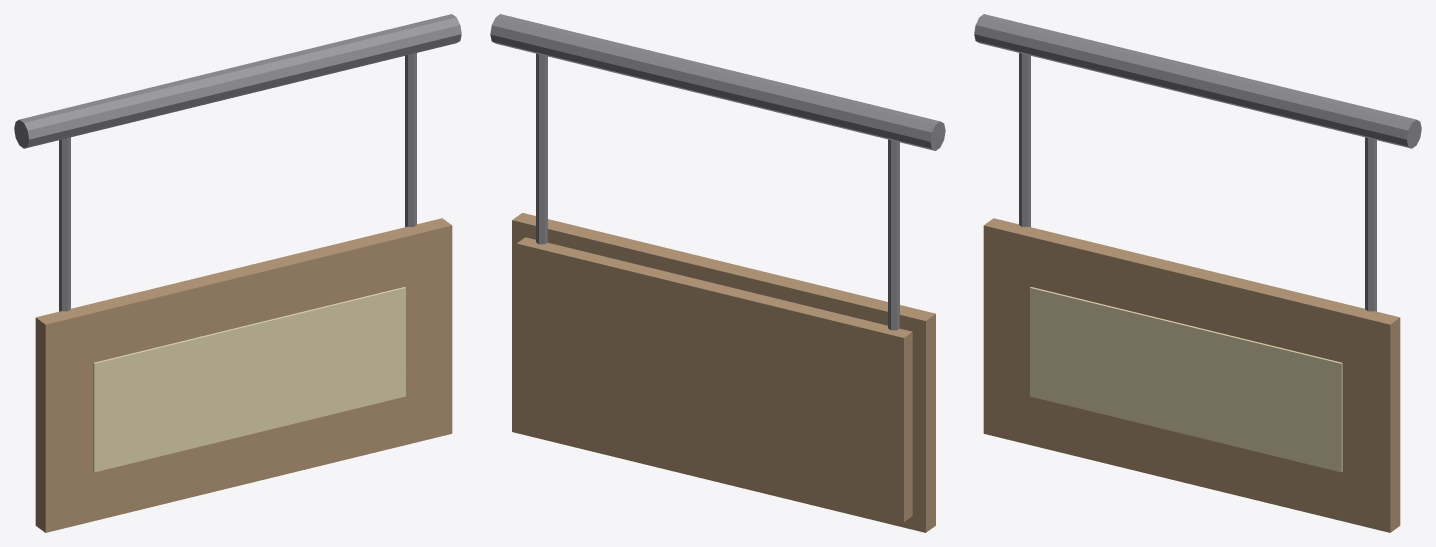
File: hanging_sign.glb
3 views of the same model, side by side, from view 1: azimuth 30°, elevation 25°; view 2: azimuth 150°, elevation 25°; view 3: azimuth 330°, elevation 25° (orthographic).
Parts seen in each view (by area): view 1: Sign_Frame, Sign_Plate, Sign_BracketBar, Sign_Chain_0.05, Sign_Chain_0.45; view 2: Sign_Board, Sign_Frame, Sign_BracketBar, Sign_Chain_0.05, Sign_Chain_0.45; view 3: Sign_Frame, Sign_Plate, Sign_BracketBar, Sign_Chain_0.45, Sign_Chain_0.05.
Boxes of the visible parts, box(x1,y1,x2,y2) form: Sign_Frame: box(35, 218, 452, 532); Sign_Plate: box(93, 287, 405, 472); Sign_BracketBar: box(14, 14, 461, 148); Sign_Chain_0.05: box(59, 137, 70, 311); Sign_Chain_0.45: box(405, 53, 416, 226); Sign_Board: box(516, 237, 912, 521); Sign_Frame: box(512, 213, 935, 532); Sign_BracketBar: box(490, 14, 945, 150); Sign_Chain_0.05: box(888, 139, 899, 330); Sign_Chain_0.45: box(536, 53, 547, 244); Sign_Frame: box(983, 218, 1400, 532); Sign_Plate: box(1030, 287, 1342, 472); Sign_BracketBar: box(974, 14, 1421, 148); Sign_Chain_0.45: box(1365, 137, 1376, 311); Sign_Chain_0.05: box(1019, 53, 1030, 226).
Bounding box in the file's own units: 0.5 × 0.4493 × 0.0395.
